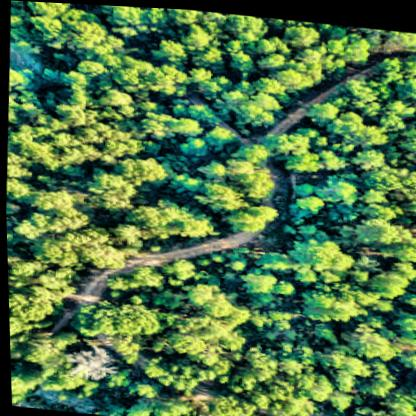tree-top: (67, 296, 150, 339), (106, 53, 187, 97), (159, 312, 236, 355), (23, 128, 94, 169), (136, 355, 209, 390), (62, 17, 120, 58), (331, 106, 393, 144), (287, 234, 350, 270), (337, 315, 396, 352), (296, 283, 356, 319), (222, 154, 279, 190), (16, 329, 72, 365), (333, 72, 387, 109), (220, 197, 278, 231), (21, 268, 75, 304), (317, 349, 372, 382), (356, 210, 411, 243), (221, 9, 274, 43), (291, 41, 342, 76), (24, 233, 78, 266), (128, 195, 184, 226), (97, 172, 138, 213), (53, 87, 96, 126), (60, 220, 114, 249), (61, 347, 109, 379), (190, 177, 242, 206), (288, 367, 330, 400), (27, 186, 73, 216), (277, 144, 326, 172), (7, 290, 51, 321), (262, 124, 310, 152), (231, 135, 281, 161), (325, 28, 373, 55), (278, 17, 321, 47), (202, 393, 258, 416), (136, 109, 178, 139), (79, 242, 126, 268), (267, 390, 314, 416), (26, 13, 68, 42), (220, 367, 266, 393), (10, 211, 45, 245), (136, 152, 173, 184), (42, 208, 84, 236), (251, 303, 293, 331), (102, 126, 141, 156), (272, 63, 317, 89), (187, 276, 220, 311), (293, 185, 331, 215), (177, 211, 219, 238), (234, 345, 276, 372), (231, 97, 273, 123), (253, 247, 294, 273), (372, 231, 416, 255), (179, 20, 218, 47), (305, 94, 342, 121), (9, 367, 36, 403), (393, 118, 416, 160), (106, 85, 138, 115), (72, 118, 112, 142), (151, 392, 191, 416), (257, 74, 285, 108), (24, 1, 74, 20), (381, 389, 416, 416), (261, 34, 290, 66), (360, 164, 402, 186), (397, 162, 416, 210), (355, 371, 398, 392), (49, 370, 88, 393), (373, 50, 404, 77), (147, 285, 185, 307), (373, 263, 411, 284), (350, 142, 386, 164), (160, 34, 189, 61), (231, 42, 257, 72), (105, 4, 142, 25), (307, 318, 340, 341), (171, 251, 196, 281), (195, 156, 226, 180), (321, 145, 349, 171), (335, 174, 361, 202), (74, 56, 110, 76), (99, 368, 133, 388), (140, 264, 167, 289), (176, 133, 208, 154), (5, 155, 33, 179), (392, 68, 416, 96), (53, 70, 88, 89), (212, 119, 239, 143), (7, 64, 31, 91), (182, 97, 214, 117), (365, 178, 391, 202), (178, 113, 204, 137), (101, 272, 131, 292), (183, 62, 214, 81), (216, 85, 250, 102), (255, 270, 280, 293), (388, 306, 416, 326), (200, 42, 223, 66), (135, 377, 160, 399), (386, 255, 416, 273), (385, 25, 416, 42), (343, 262, 373, 279), (232, 301, 255, 323), (5, 177, 28, 199), (166, 7, 197, 23), (123, 225, 145, 247), (128, 401, 151, 416), (229, 253, 247, 272), (276, 277, 296, 294), (361, 411, 413, 416), (404, 50, 416, 70)
